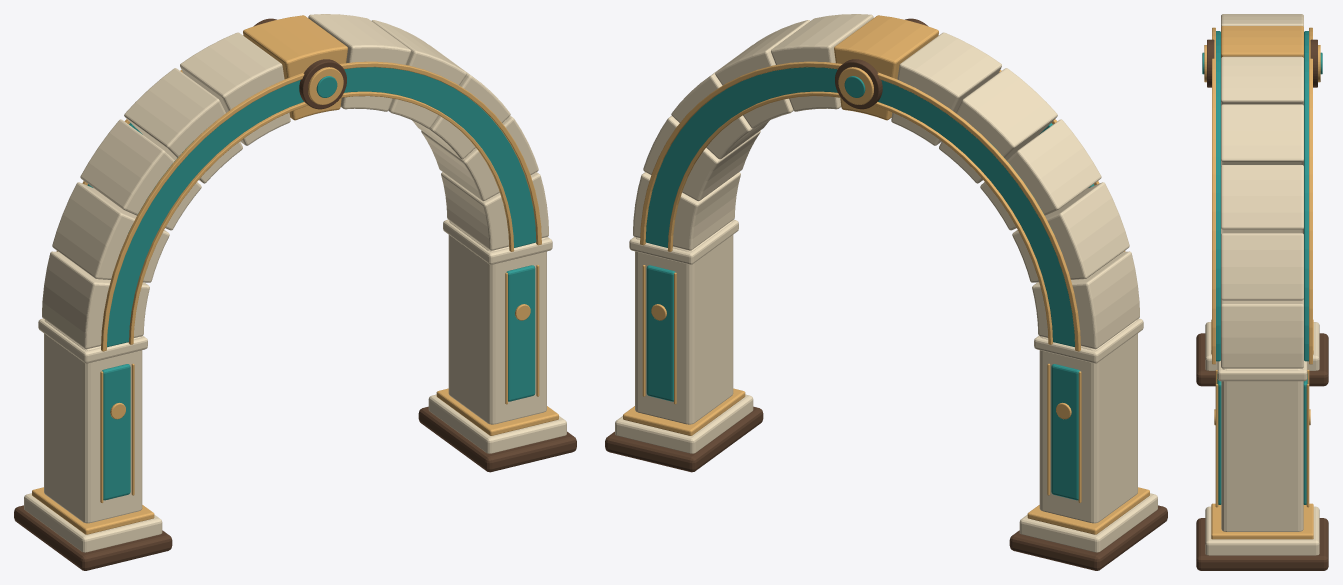
The model's file is SunGate.fbx.
The picture shows the model from 3 angles, left to right: view 1: azimuth 30°, elevation 25°; view 2: azimuth 150°, elevation 25°; view 3: azimuth 270°, elevation 25°; orthographic projection. The views are drawn at different scales.
Parts seen in each view (by area): view 1: Front Inset Enamel, Right Pillar, Left Pillar, Arch Stone 08, Arch Stone 10, Arch Stone 09, Arch Stone 07, Arch Stone 11, Front Gold Arc 2, Arch Stone 06, Arch Stone 05, Arch Stone 01 (+16 smaller); view 2: Back Inset Enamel, Right Pillar, Left Pillar, Arch Stone 08, Arch Stone 10, Arch Stone 09, Arch Stone 07, Arch Stone 11, Back Gold Arc 2, Arch Stone 06, Arch Stone 05, Arch Stone 01 (+16 smaller); view 3: Right Pillar, Arch Stone 01, Arch Stone 03, Arch Stone 02, Arch Stone 04, Arch Stone 05, Right Foot, Arch Stone 06, Right Plinth, Back Inset Enamel, Front Inset Enamel, Right Brass Collar (+12 smaller).
Part boxes in pixels (x1,y1,x2,y2): Front Inset Enamel: (107,67,536,347); Right Pillar: (448,221,546,424); Left Pillar: (44,320,142,523); Arch Stone 08: (124,68,242,183); Arch Stone 10: (52,182,169,282); Arch Stone 09: (80,119,201,230); Arch Stone 07: (180,32,290,145); Arch Stone 11: (42,251,149,349); Front Gold Arc 2: (101,61,541,351); Arch Stone 06: (243,15,347,120); Arch Stone 05: (308,14,410,111); Arch Stone 01: (441,172,548,250); Back Inset Enamel: (645,67,1074,347); Right Pillar: (635,221,733,424); Left Pillar: (1039,320,1137,523); Arch Stone 08: (939,68,1057,183); Arch Stone 10: (1012,182,1129,282); Arch Stone 09: (980,119,1101,230); Arch Stone 07: (891,32,1001,145); Arch Stone 11: (1032,251,1139,349); Back Gold Arc 2: (640,61,1080,351); Arch Stone 06: (834,15,938,120); Arch Stone 05: (771,14,873,111); Arch Stone 01: (633,172,740,250); Right Pillar: (1221,368,1303,531); Arch Stone 01: (1221,299,1303,368); Arch Stone 03: (1221,165,1303,233); Arch Stone 02: (1221,233,1303,300); Arch Stone 04: (1221,104,1303,165); Arch Stone 05: (1221,56,1303,105); Right Foot: (1196,518,1328,570); Arch Stone 06: (1221,26,1303,57); Right Plinth: (1205,506,1319,555); Back Inset Enamel: (1304,31,1308,361); Front Inset Enamel: (1216,31,1220,361); Right Brass Collar: (1211,503,1313,539).
Bounding box in the file's own units: 5.01 × 4.36 × 1.24.
